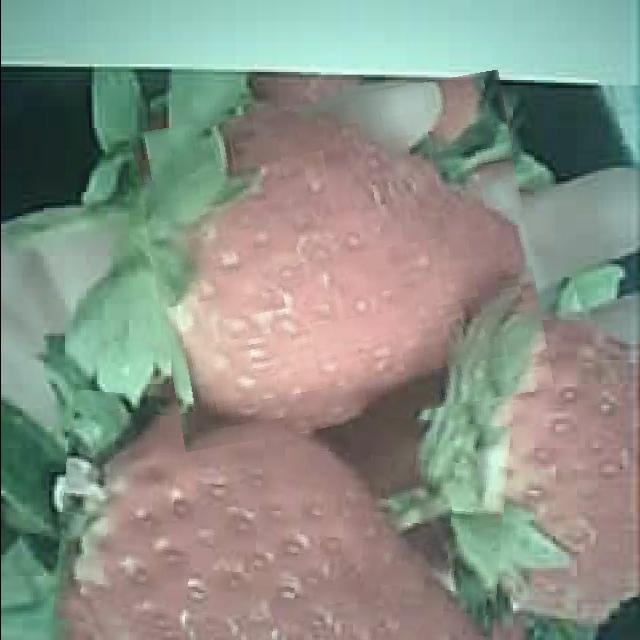strawberry: (142, 85, 540, 438), (56, 399, 505, 640)
